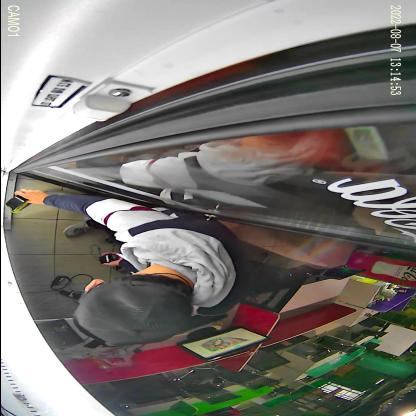yellow: (4, 195, 32, 213)
